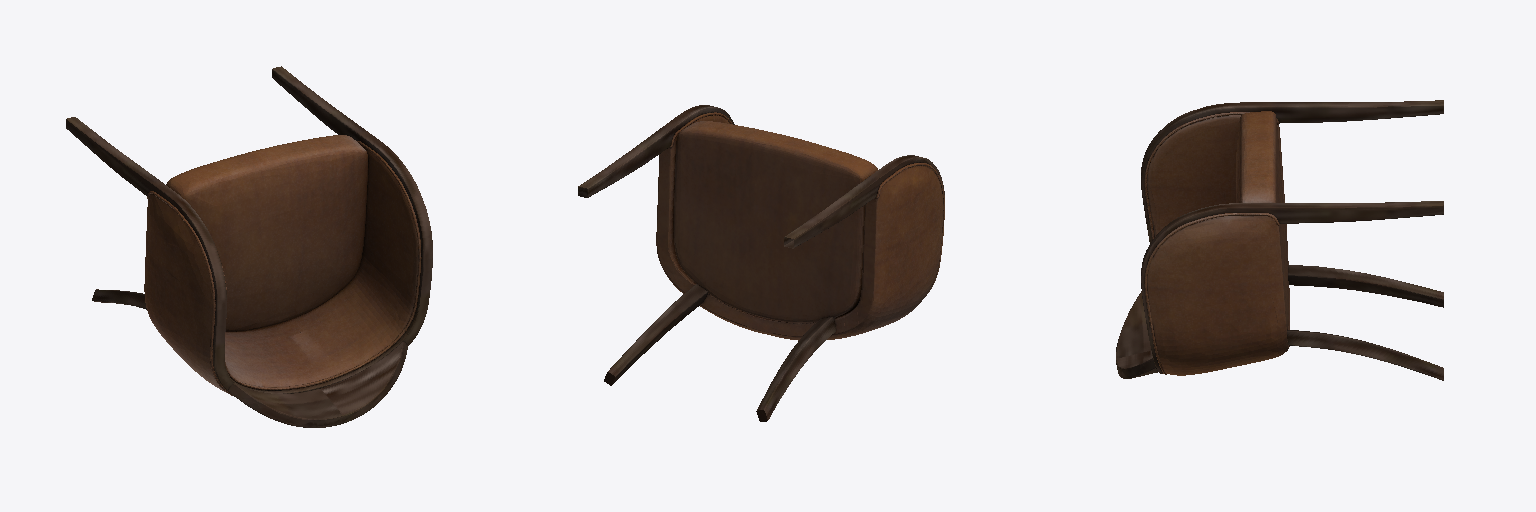
3 renders of one model, left to right at view 1: azimuth 30°, elevation 25°; view 2: azimuth 150°, elevation 25°; view 3: azimuth 270°, elevation 25°, orthographic.
Bounding box in the file's own units: 0.6 × 0.5479 × 0.7398.
1 materials, 1 textured.